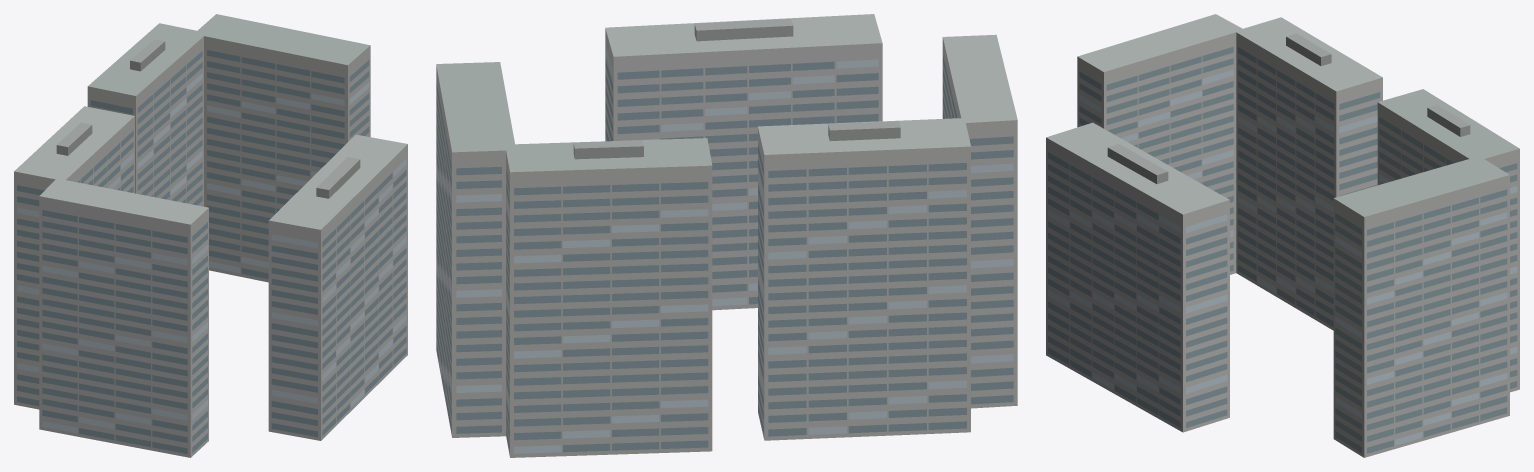
The model's file is apt-a15286210.glb.
3 views of the same model, side by side, from view 1: azimuth 30°, elevation 25°; view 2: azimuth 150°, elevation 25°; view 3: azimuth 270°, elevation 25° (orthographic). The views are drawn at different scales.
Visible parts, largest first — view 1: apt-a15286210; view 2: apt-a15286210; view 3: apt-a15286210.
Part boxes in pixels (<box>): apt-a15286210: <box>14,14,407,457</box>; apt-a15286210: <box>436,14,1017,457</box>; apt-a15286210: <box>1046,14,1519,457</box>.
Bounding box in the file's own units: 116 × 66.45 × 114.
